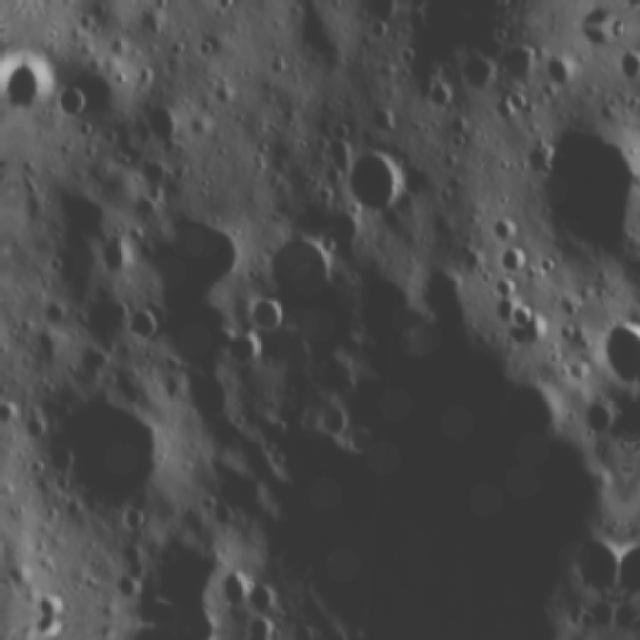crater: (194, 255, 638, 640), (34, 390, 174, 525), (532, 117, 640, 266), (337, 142, 414, 222), (568, 534, 621, 600), (592, 314, 640, 386), (495, 295, 551, 350), (138, 96, 185, 150), (457, 40, 500, 97), (496, 37, 542, 88), (222, 325, 262, 381), (541, 52, 587, 100), (50, 80, 96, 128), (252, 290, 292, 341), (416, 76, 458, 124), (13, 580, 65, 615), (313, 397, 353, 441), (489, 238, 533, 277), (576, 403, 616, 445), (365, 98, 406, 138), (97, 234, 134, 277), (127, 306, 167, 343), (612, 44, 640, 85), (484, 210, 516, 245), (104, 32, 130, 62), (194, 37, 218, 65), (166, 35, 189, 60), (0, 532, 11, 582), (214, 0, 240, 14)
